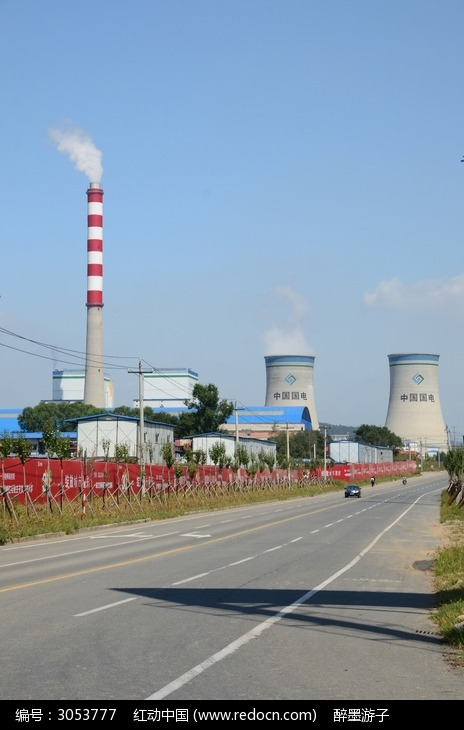dust: (27, 108, 126, 204), (253, 286, 323, 369)
